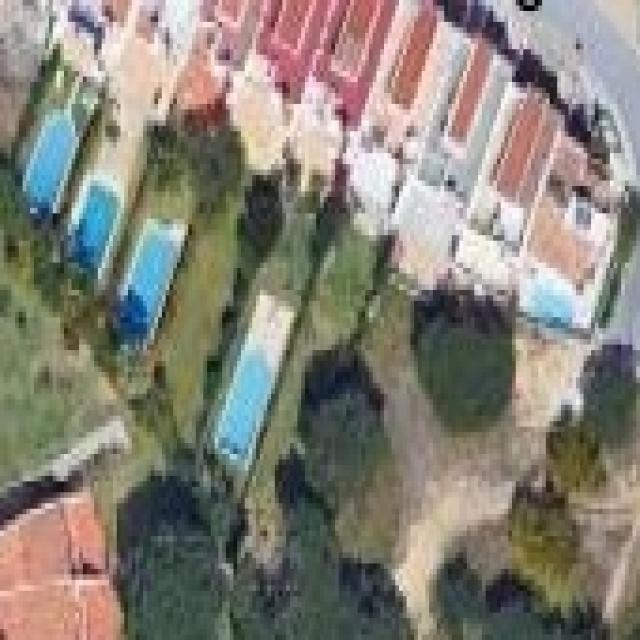pool: (191, 270, 317, 484), (84, 195, 207, 379), (35, 150, 146, 316), (0, 92, 101, 239), (500, 259, 599, 348)
